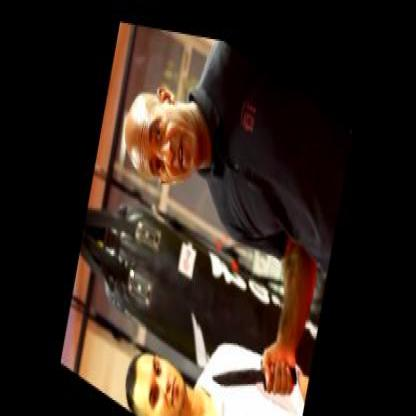knife: (206, 297, 303, 414)
